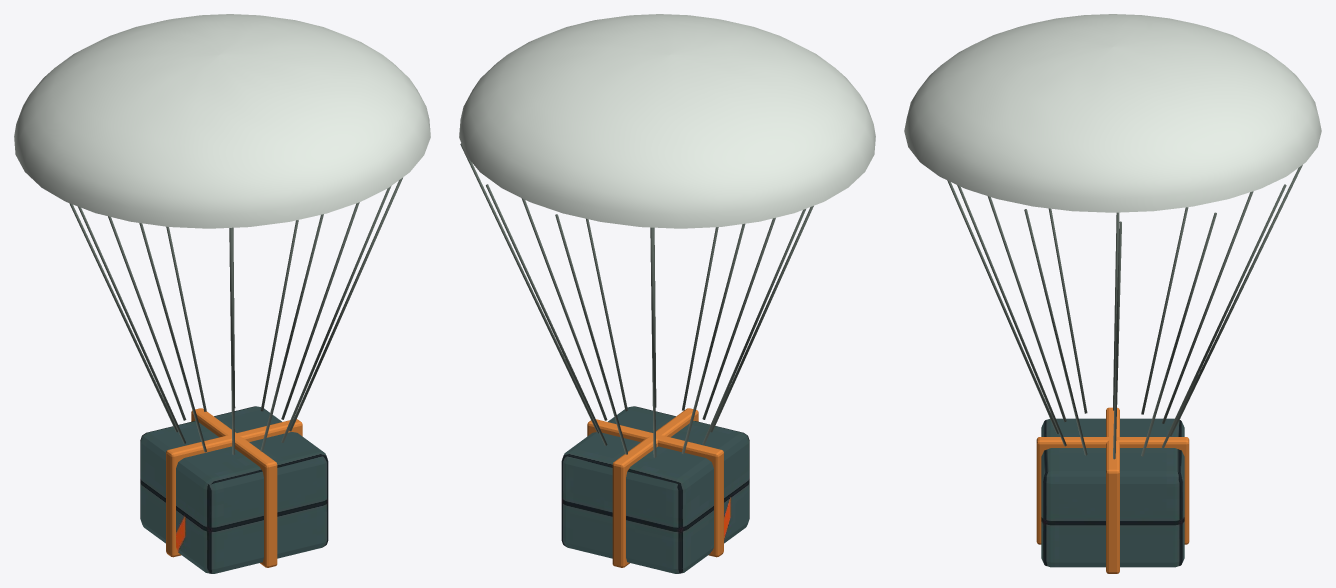
The model's file is pass65-care-crate-lod0.glb.
The picture shows the model from 3 angles, left to right: view 1: azimuth 30°, elevation 25°; view 2: azimuth 150°, elevation 25°; view 3: azimuth 270°, elevation 25°; orthographic projection.
Parts seen in each view (by area): view 1: Care_ParachuteCanopy_LOD0, Care_CrateBody_LOD0, Care_CrateStrapY_LOD0, Care_CrateStrapX_LOD0, Care_ParachuteLine_11_LOD0, Care_ParachuteLine_10_LOD0, Care_ParachuteLine_6_LOD0, Care_ParachuteLine_5_LOD0, Care_ParachuteLine_9_LOD0, Care_ParachuteLine_7_LOD0, Care_ParachuteLine_0_LOD0, Care_ParachuteLine_8_LOD0 (+3 smaller); view 2: Care_ParachuteCanopy_LOD0, Care_CrateBody_LOD0, Care_CrateStrapY_LOD0, Care_CrateStrapX_LOD0, Care_ParachuteLine_1_LOD0, Care_ParachuteLine_2_LOD0, Care_ParachuteLine_3_LOD0, Care_ParachuteLine_6_LOD0, Care_ParachuteLine_5_LOD0, Care_ParachuteLine_7_LOD0, Care_ParachuteLine_0_LOD0, Care_ParachuteLine_4_LOD0 (+3 smaller); view 3: Care_ParachuteCanopy_LOD0, Care_CrateBody_LOD0, Care_CrateStrapY_LOD0, Care_CrateStrapX_LOD0, Care_ParachuteLine_3_LOD0, Care_ParachuteLine_2_LOD0, Care_ParachuteLine_9_LOD0, Care_ParachuteLine_10_LOD0, Care_ParachuteLine_1_LOD0, Care_ParachuteLine_11_LOD0, Care_ParachuteLine_4_LOD0, Care_ParachuteLine_0_LOD0 (+4 smaller).
Part boxes in pixels (x1,y1,x2,y2): Care_ParachuteCanopy_LOD0: [14, 14, 430, 228]; Care_CrateBody_LOD0: [140, 406, 328, 573]; Care_CrateStrapY_LOD0: [191, 408, 277, 567]; Care_CrateStrapX_LOD0: [166, 419, 302, 557]; Care_ParachuteLine_11_LOD0: [289, 177, 402, 431]; Care_ParachuteLine_10_LOD0: [281, 186, 391, 442]; Care_ParachuteLine_6_LOD0: [78, 206, 185, 443]; Care_ParachuteLine_5_LOD0: [69, 203, 178, 432]; Care_ParachuteLine_9_LOD0: [260, 214, 323, 451]; Care_ParachuteLine_7_LOD0: [139, 223, 206, 452]; Care_ParachuteLine_0_LOD0: [281, 202, 359, 419]; Care_ParachuteLine_8_LOD0: [229, 228, 234, 454]; Care_ParachuteCanopy_LOD0: [459, 14, 875, 228]; Care_CrateBody_LOD0: [561, 406, 749, 573]; Care_CrateStrapY_LOD0: [612, 408, 698, 567]; Care_CrateStrapX_LOD0: [587, 419, 723, 557]; Care_ParachuteLine_1_LOD0: [460, 143, 598, 433]; Care_ParachuteLine_2_LOD0: [486, 184, 607, 445]; Care_ParachuteLine_3_LOD0: [555, 214, 627, 454]; Care_ParachuteLine_6_LOD0: [702, 209, 805, 444]; Care_ParachuteLine_5_LOD0: [682, 223, 745, 454]; Care_ParachuteLine_7_LOD0: [710, 206, 813, 432]; Care_ParachuteLine_0_LOD0: [521, 198, 607, 420]; Care_ParachuteLine_4_LOD0: [650, 227, 656, 457]; Care_ParachuteCanopy_LOD0: [904, 14, 1321, 212]; Care_CrateBody_LOD0: [1041, 418, 1184, 567]; Care_CrateStrapY_LOD0: [1036, 437, 1189, 544]; Care_CrateStrapX_LOD0: [1106, 407, 1119, 573]; Care_ParachuteLine_3_LOD0: [1170, 165, 1302, 436]; Care_ParachuteLine_2_LOD0: [1162, 184, 1286, 447]; Care_ParachuteLine_9_LOD0: [947, 180, 1058, 433]; Care_ParachuteLine_10_LOD0: [957, 185, 1066, 446]; Care_ParachuteLine_1_LOD0: [1141, 212, 1216, 456]; Care_ParachuteLine_11_LOD0: [1024, 209, 1087, 455]; Care_ParachuteLine_4_LOD0: [1162, 191, 1253, 423]; Care_ParachuteLine_0_LOD0: [1113, 221, 1121, 459].
Bounding box in the file's own units: 3.56 × 4.6 × 3.56.
Materials: 4 (1 with a texture image).
